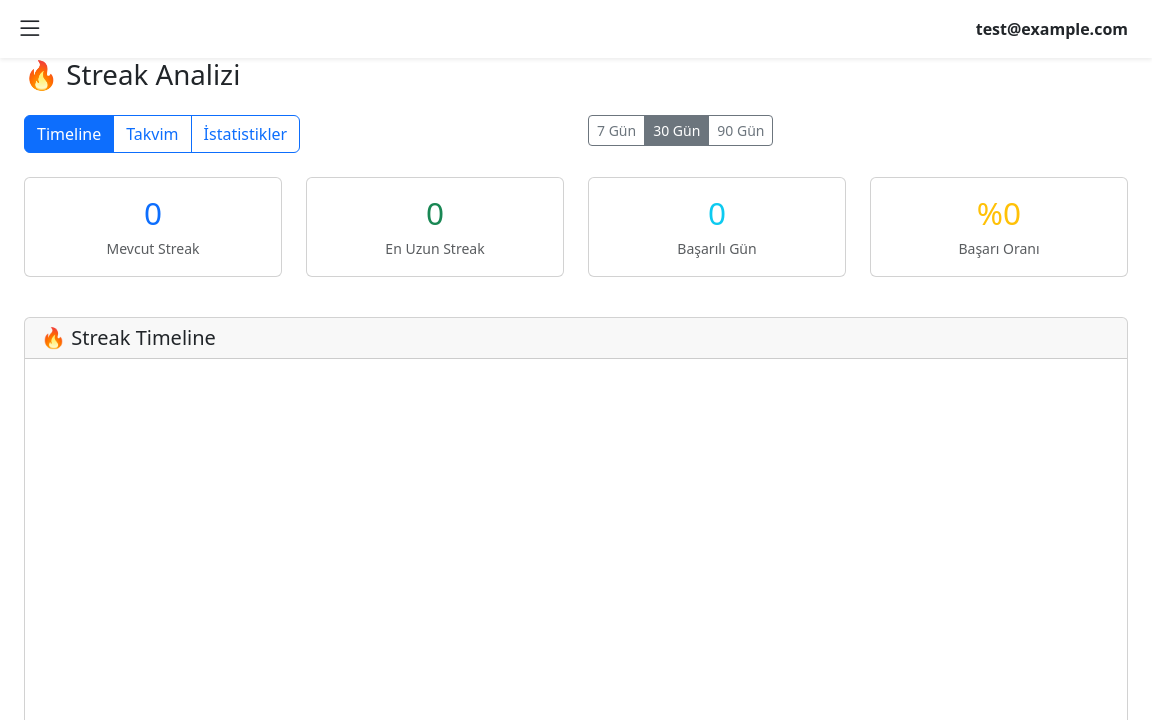
Test: StreakChart Component › View Type Switching › should switch to calendar view
Click the button "Takvim". click: (152, 134)
box: [113,115,192,153]
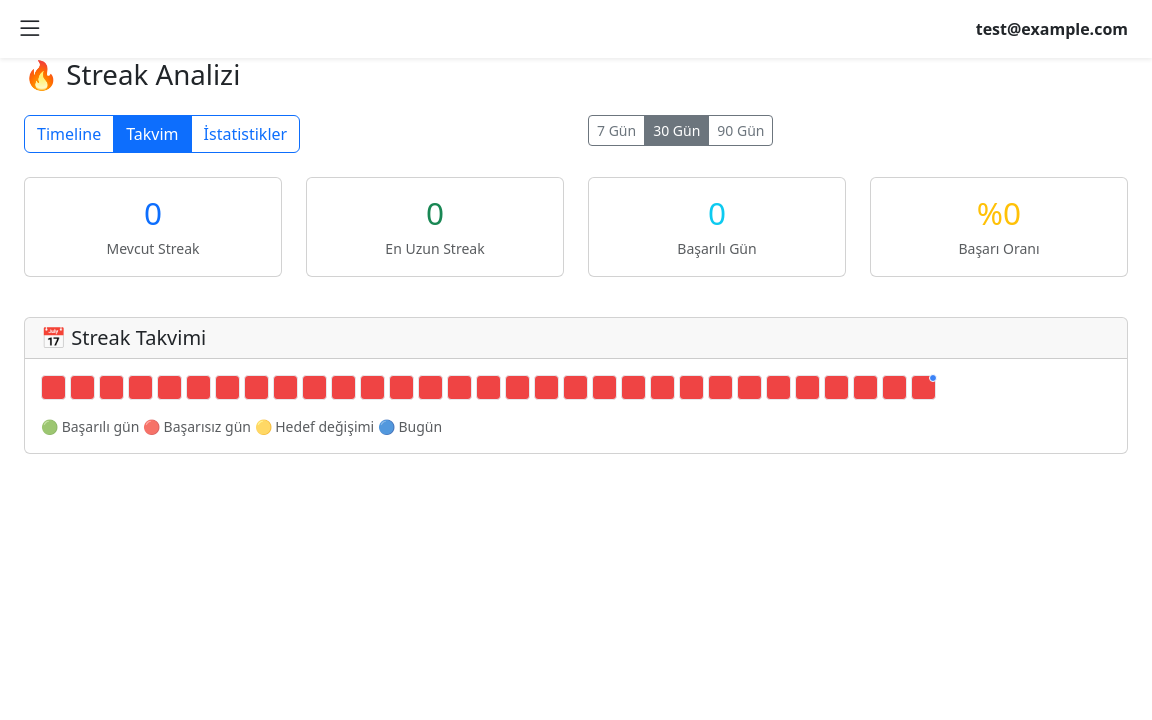
Result: the heading "📅 Streak Takvimi" is shown at [41,324,206,351]
Result: the text "🟢 Başarılı gün 🔴 Başarısız gün 🟡 Hedef değişimi 🔵 Bugün" is shown at [41,417,442,436]
